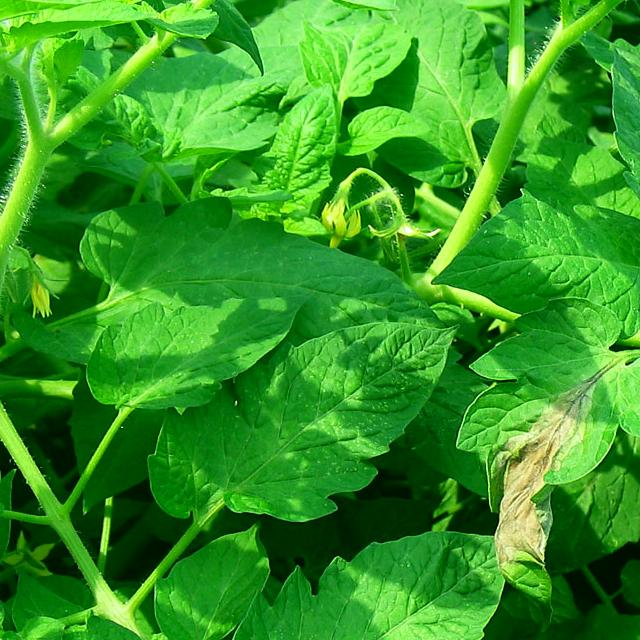Tomato leaf: (151, 309, 456, 557), (460, 328, 640, 543), (95, 270, 285, 433), (223, 543, 512, 640), (588, 34, 640, 336), (147, 521, 277, 640), (243, 0, 411, 8)
